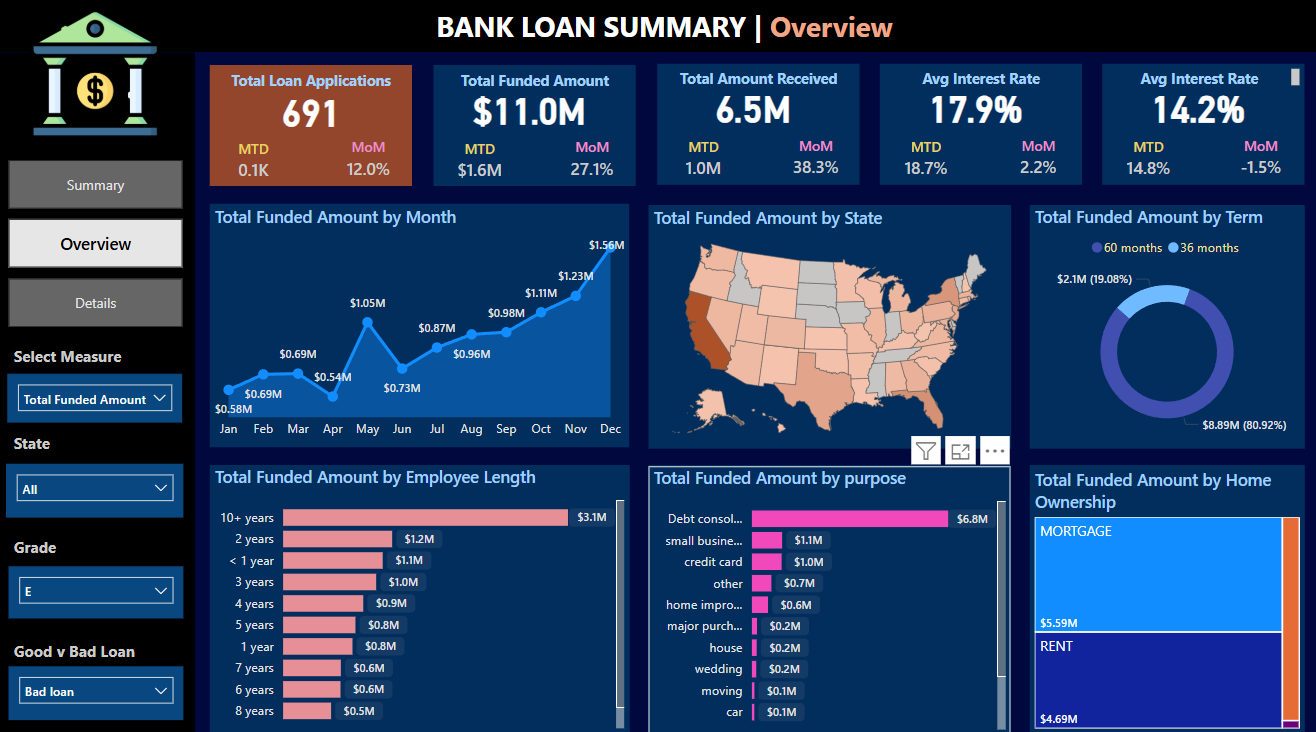

This screenshot's page, from the dashboard's own definition file:
{"tool":"powerbi","page":{"name":"Overview","canvas":[1280,720],"ordinal":1},"visuals":[{"type":"shape","box":[0,0,1280.3,55],"z":0},{"type":"shape","box":[637.7,66.8,195.4,117],"z":0,"group":"g3"},{"type":"shape","box":[852.7,66.8,195.4,117],"z":0,"group":"g4"},{"type":"shape","box":[1067.8,66.8,195.4,117],"z":0,"group":"g5"},{"type":"shape","box":[422.2,68,195.4,117],"z":0,"group":"g2"},{"type":"shape","box":[206.7,68.1,195.4,117],"z":0,"group":"g1"},{"type":"shape","box":[0,55.5,192,664.7],"z":1000},{"type":"card","fields":{"Values":["bank_loan.Total Amount Received"]},"box":[656.5,81.8,146.2,53.8],"z":1000,"group":"g3"},{"type":"card","fields":{"Values":["bank_loan.Avg Interest Rate"]},"box":[871.5,81.8,146.2,53.8],"z":1000,"group":"g4"},{"type":"card","fields":{"Values":["bank_loan.Avg DTI"]},"box":[1086.6,81.8,146.2,53.8],"z":1000,"group":"g5"},{"type":"card","fields":{"Values":["bank_loan.Total Funded Amount"]},"box":[441,83,146.2,53.8],"z":1000,"group":"g2"},{"type":"card","fields":{"Values":["bank_loan.Total Load Applications"]},"box":[248.9,85,111,54.3],"z":1000,"group":"g1"},{"type":"textbox","box":[637.7,66.8,195.4,33.8],"z":2000,"group":"g3"},{"type":"textbox","box":[852.7,66.8,195.4,33.8],"z":2000,"group":"g4"},{"type":"textbox","box":[1067.8,66.8,195.4,33.8],"z":2000,"group":"g5"},{"type":"textbox","box":[422.2,68,195.4,33.8],"z":2000,"group":"g2"},{"type":"textbox","box":[206.7,68.1,195.4,33.8],"z":2000,"group":"g1"},{"type":"shape","box":[206.2,201.2,405,235],"z":2000},{"type":"textbox","box":[419.8,7.2,459.7,48.3],"z":3000},{"type":"card","title":"MTD","fields":{"Values":["bank_loan.MTD Total Amount Received"]},"box":[649.8,138,65,45.8],"z":3000,"group":"g3"},{"type":"card","title":"MTD","fields":{"Values":["bank_loan.MTD Avg Interest Rate"]},"box":[864.8,138,65,45.8],"z":3000,"group":"g4"},{"type":"card","title":"MTD","fields":{"Values":["bank_loan.MTD Avg DTI"]},"box":[1079.9,138,65,45.8],"z":3000,"group":"g5"},{"type":"card","title":"MTD","fields":{"Values":["bank_loan.MTD Funded Amount"]},"box":[434.3,139.2,65,45.8],"z":3000,"group":"g2"},{"type":"card","title":"MTD","fields":{"Values":["bank_loan.MTD Loan Applications"]},"box":[218.8,139.3,60.3,45.8],"z":3000,"group":"g1"},{"type":"group","id":"g1","title":"Group 1","box":[206.7,68.1,195.4,117],"z":4000},{"type":"card","title":"MoM","fields":{"Values":["bank_loan.MOM Total Amount Received"]},"box":[761.3,136.7,60,46.2],"z":4000,"group":"g3"},{"type":"card","title":"MoM","fields":{"Values":["bank_loan.MOM Avg Interest Rate"]},"box":[976.3,136.7,60,46.2],"z":4000,"group":"g4"},{"type":"card","title":"MoM","fields":{"Values":["bank_loan.MOM Avg DTI"]},"box":[1191.4,136.7,60,46.2],"z":4000,"group":"g5"},{"type":"card","title":"MoM","fields":{"Values":["bank_loan.MOM Total Funded Amount"]},"box":[545.8,137.9,60,46.2],"z":4000,"group":"g2"},{"type":"card","title":"MoM","fields":{"Values":["bank_loan.MOM Loan Applications"]},"box":[330.3,138,60,46.2],"z":4000,"group":"g1"},{"type":"group","id":"g2","title":"Group 1","box":[422.2,68,195.4,117],"z":5000},{"type":"group","id":"g3","title":"Group 1","box":[637.7,66.8,195,117.5],"z":6000},{"type":"group","id":"g4","title":"Group 1","box":[852.7,66.8,195,117.5],"z":7000},{"type":"group","id":"g5","title":"Group 1","box":[1067.8,66.8,195,117.5],"z":8000},{"type":"slicer","fields":{"Values":["bank_loan.address_state"]},"box":[9.7,452.6,171.3,51.9],"z":9000},{"type":"textbox","box":[12.1,417.6,67.6,33.8],"z":10000},{"type":"slicer","fields":{"Values":["bank_loan.grade"]},"box":[12.1,551.5,168.9,50.7],"z":11000},{"type":"textbox","box":[12.1,517.8,67.6,33.8],"z":12000},{"type":"slicer","fields":{"Values":["bank_loan.Good v Bad Loans"]},"box":[12.1,648.1,168.9,51.9],"z":13000},{"type":"textbox","box":[12.1,617.9,143.6,33.8],"z":14000},{"type":"areaChart","fields":{"Y":["bank_loan.Total Funded Amount"],"Category":["DATE TABLE.Month"]},"box":[206.3,202.7,405.4,234],"z":15000},{"type":"slicer","fields":{"Values":["Select Measure.Select Measure"]},"box":[10.9,366,168.9,47.1],"z":16000},{"type":"textbox","box":[12.1,333.4,127.9,33.8],"z":17000},{"type":"shape","box":[629.8,202.7,350,235.3],"z":18000},{"type":"shapeMap","fields":{"Value":["bank_loan.Total Funded Amount"],"Category":["bank_loan.address_state"]},"box":[629.8,203.9,349.9,234],"z":19000},{"type":"shape","box":[997.7,202.7,265.4,235.3],"z":20000},{"type":"donutChart","fields":{"Y":["bank_loan.Total Funded Amount"],"Category":["bank_loan.term"]},"box":[997.7,202.7,265.4,234],"z":21000},{"type":"shape","box":[206.3,453.6,405.4,259.4],"z":22000},{"type":"barChart","fields":{"Y":["bank_loan.Total Funded Amount"],"Category":["bank_loan.emp_length"]},"box":[206.3,453.6,405.4,259.4],"z":23000},{"type":"shape","box":[629.8,453.6,349.9,259.4],"z":24000},{"type":"shape","box":[997.7,453.6,265.4,259.4],"z":25000},{"type":"barChart","fields":{"Y":["bank_loan.Total Funded Amount"],"Category":["bank_loan.purpose"]},"box":[629.8,454.8,349.9,259.4],"z":26000},{"type":"treemap","fields":{"Values":["bank_loan.Total Funded Amount"],"Group":["bank_loan.home_ownership"]},"box":[997.7,456,265.4,257],"z":27000},{"type":"image","box":[27.7,7.2,136.3,137.5],"z":28000},{"type":"pageNavigator","box":[12.1,159.3,168.9,161.7],"z":29000}]}

Visuals, with their boxes in screenshot pixels (x1, y1, x2, y2), scaled from the page's 1280x720 canvas onto the 1316x732 screenshot:
shape: (x1=0, y1=0, x2=1315, y2=56)
shape: (x1=656, y1=68, x2=857, y2=187)
shape: (x1=877, y1=68, x2=1078, y2=187)
shape: (x1=1098, y1=68, x2=1299, y2=187)
shape: (x1=434, y1=69, x2=635, y2=188)
shape: (x1=213, y1=69, x2=413, y2=188)
shape: (x1=0, y1=56, x2=197, y2=731)
card - bank_loan.Total Amount Received: (x1=675, y1=83, x2=825, y2=138)
card - bank_loan.Avg Interest Rate: (x1=896, y1=83, x2=1046, y2=138)
card - bank_loan.Avg DTI: (x1=1117, y1=83, x2=1267, y2=138)
card - bank_loan.Total Funded Amount: (x1=453, y1=84, x2=604, y2=139)
card - bank_loan.Total Load Applications: (x1=256, y1=86, x2=370, y2=142)
textbox: (x1=656, y1=68, x2=857, y2=102)
textbox: (x1=877, y1=68, x2=1078, y2=102)
textbox: (x1=1098, y1=68, x2=1299, y2=102)
textbox: (x1=434, y1=69, x2=635, y2=103)
textbox: (x1=213, y1=69, x2=413, y2=104)
shape: (x1=212, y1=205, x2=628, y2=443)
textbox: (x1=432, y1=7, x2=904, y2=56)
"MTD" card: (x1=668, y1=140, x2=735, y2=187)
"MTD" card: (x1=889, y1=140, x2=956, y2=187)
"MTD" card: (x1=1110, y1=140, x2=1177, y2=187)
"MTD" card: (x1=447, y1=142, x2=513, y2=188)
"MTD" card: (x1=225, y1=142, x2=287, y2=188)
"Group 1" group: (x1=213, y1=69, x2=413, y2=188)
"MoM" card: (x1=783, y1=139, x2=844, y2=186)
"MoM" card: (x1=1004, y1=139, x2=1065, y2=186)
"MoM" card: (x1=1225, y1=139, x2=1287, y2=186)
"MoM" card: (x1=561, y1=140, x2=623, y2=187)
"MoM" card: (x1=340, y1=140, x2=401, y2=187)
"Group 1" group: (x1=434, y1=69, x2=635, y2=188)
"Group 1" group: (x1=656, y1=68, x2=856, y2=187)
"Group 1" group: (x1=877, y1=68, x2=1077, y2=187)
"Group 1" group: (x1=1098, y1=68, x2=1298, y2=187)
slicer - bank_loan.address_state: (x1=10, y1=460, x2=186, y2=513)
textbox: (x1=12, y1=425, x2=82, y2=459)
slicer - bank_loan.grade: (x1=12, y1=561, x2=186, y2=612)
textbox: (x1=12, y1=526, x2=82, y2=561)
slicer - bank_loan.Good v Bad Loans: (x1=12, y1=659, x2=186, y2=712)
textbox: (x1=12, y1=628, x2=160, y2=663)
areaChart - bank_loan.Total Funded Amount x DATE TABLE.Month: (x1=212, y1=206, x2=629, y2=444)
slicer - Select Measure.Select Measure: (x1=11, y1=372, x2=185, y2=420)
textbox: (x1=12, y1=339, x2=144, y2=373)
shape: (x1=648, y1=206, x2=1007, y2=445)
shapeMap - bank_loan.Total Funded Amount x bank_loan.address_state: (x1=648, y1=207, x2=1007, y2=445)
shape: (x1=1026, y1=206, x2=1299, y2=445)
donutChart - bank_loan.Total Funded Amount x bank_loan.term: (x1=1026, y1=206, x2=1299, y2=444)
shape: (x1=212, y1=461, x2=629, y2=725)
barChart - bank_loan.Total Funded Amount x bank_loan.emp_length: (x1=212, y1=461, x2=629, y2=725)
shape: (x1=648, y1=461, x2=1007, y2=725)
shape: (x1=1026, y1=461, x2=1299, y2=725)
barChart - bank_loan.Total Funded Amount x bank_loan.purpose: (x1=648, y1=462, x2=1007, y2=726)
treemap - bank_loan.Total Funded Amount x bank_loan.home_ownership: (x1=1026, y1=464, x2=1299, y2=725)
image: (x1=28, y1=7, x2=169, y2=147)
pageNavigator: (x1=12, y1=162, x2=186, y2=326)
